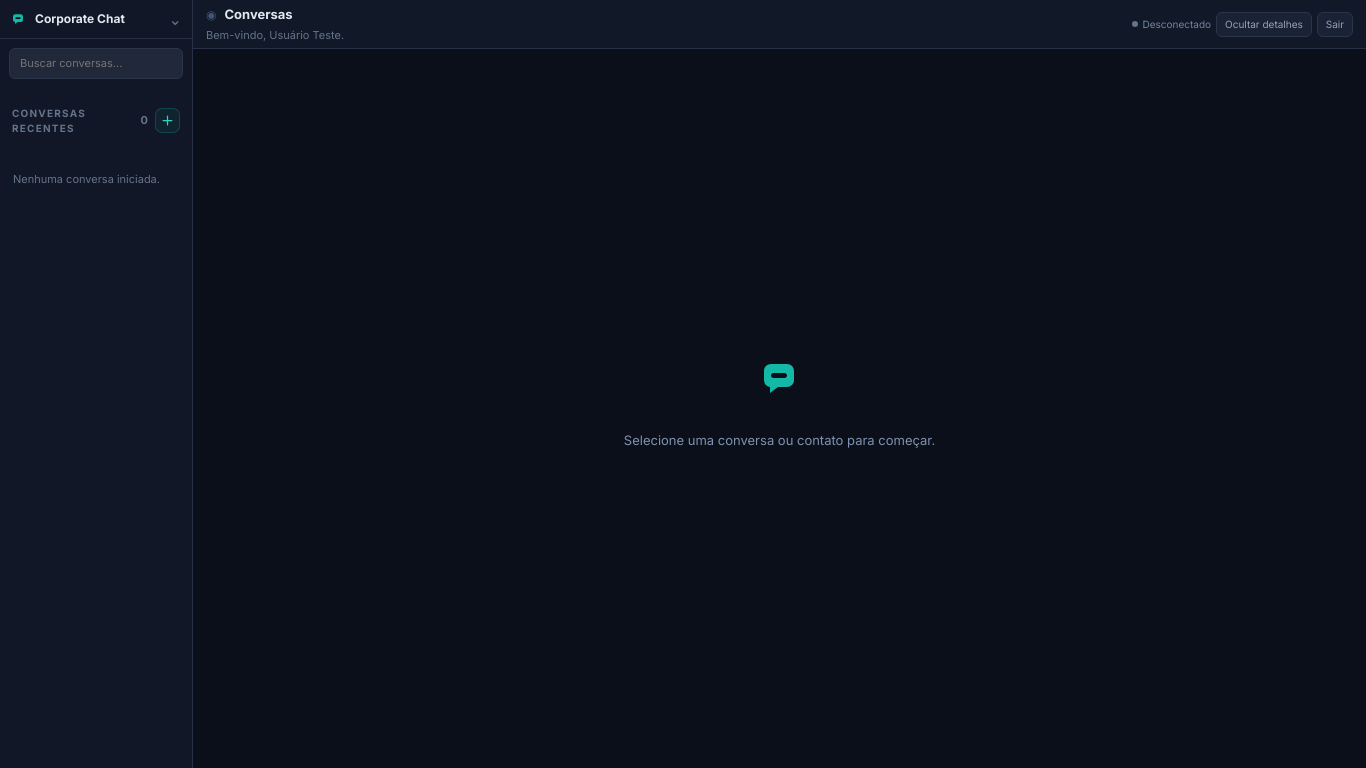
Scenario: deve criar grupo e atualizar o dashboard
The width and height of the screenshot is (1366, 768).
Click the button named "Novo grupo" at x=168, y=121, box [155,108,180,133]
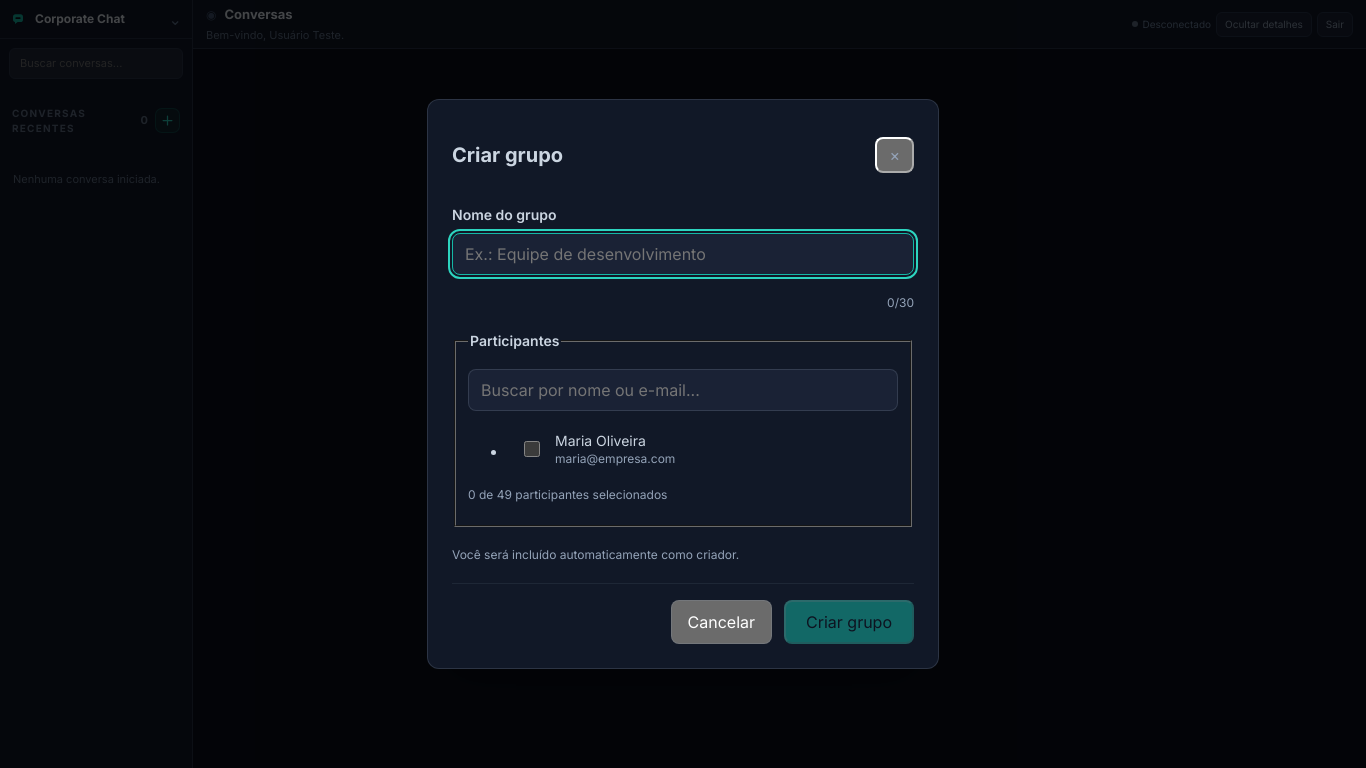
Type "Equipe" into the field labelled "Nome do grupo" at x=683, y=254, box [452,233,914,275]
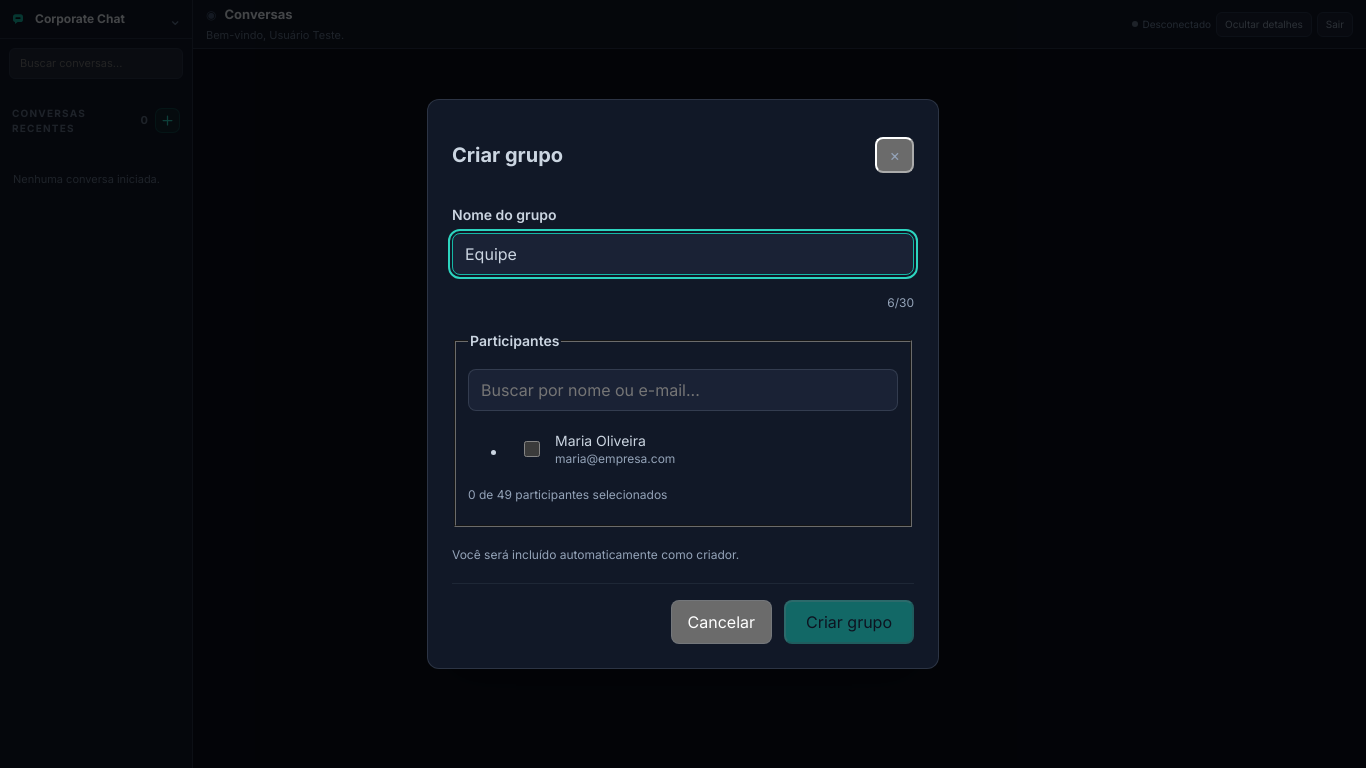
Click the checkbox named "Selecionar Maria Oliveira" at x=532, y=449, box [524,441,540,457]
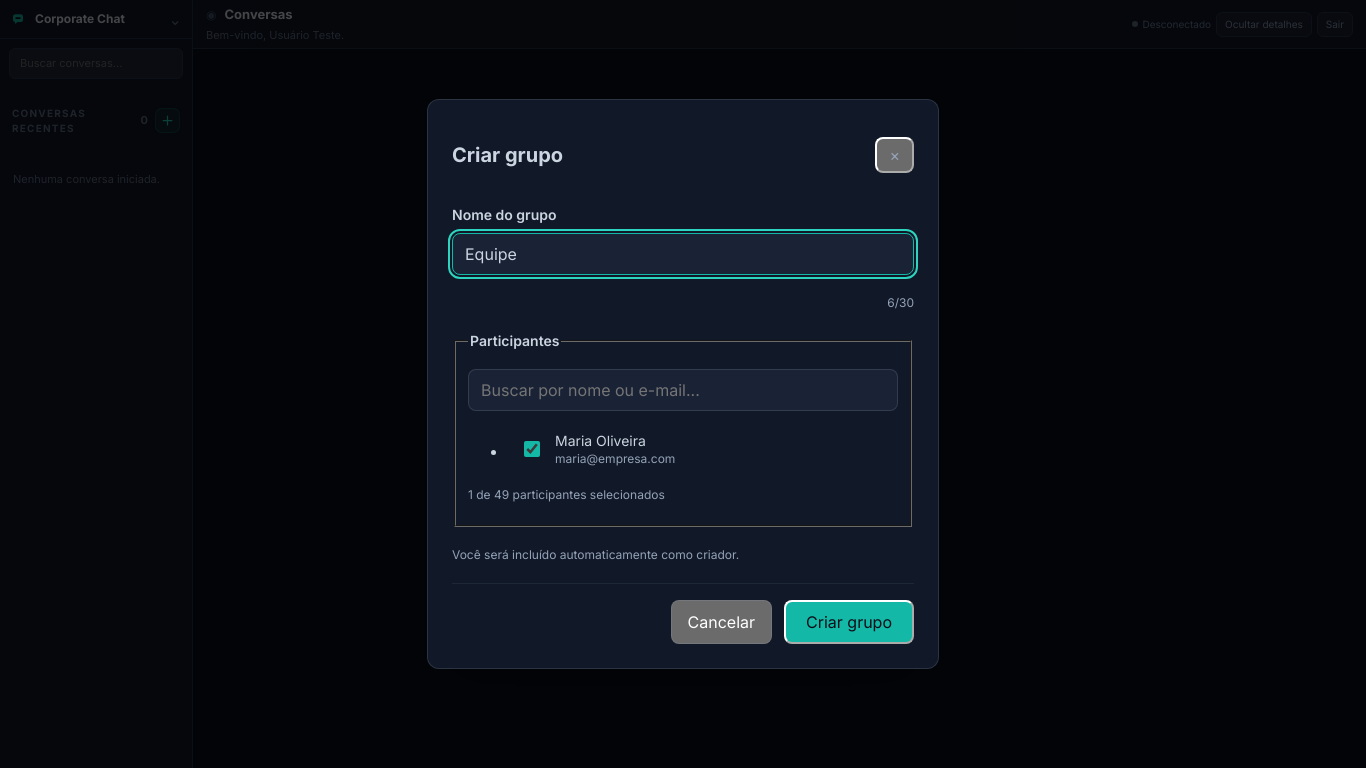
Click the button "Criar grupo" at x=849, y=622, box [784,600,914,644]
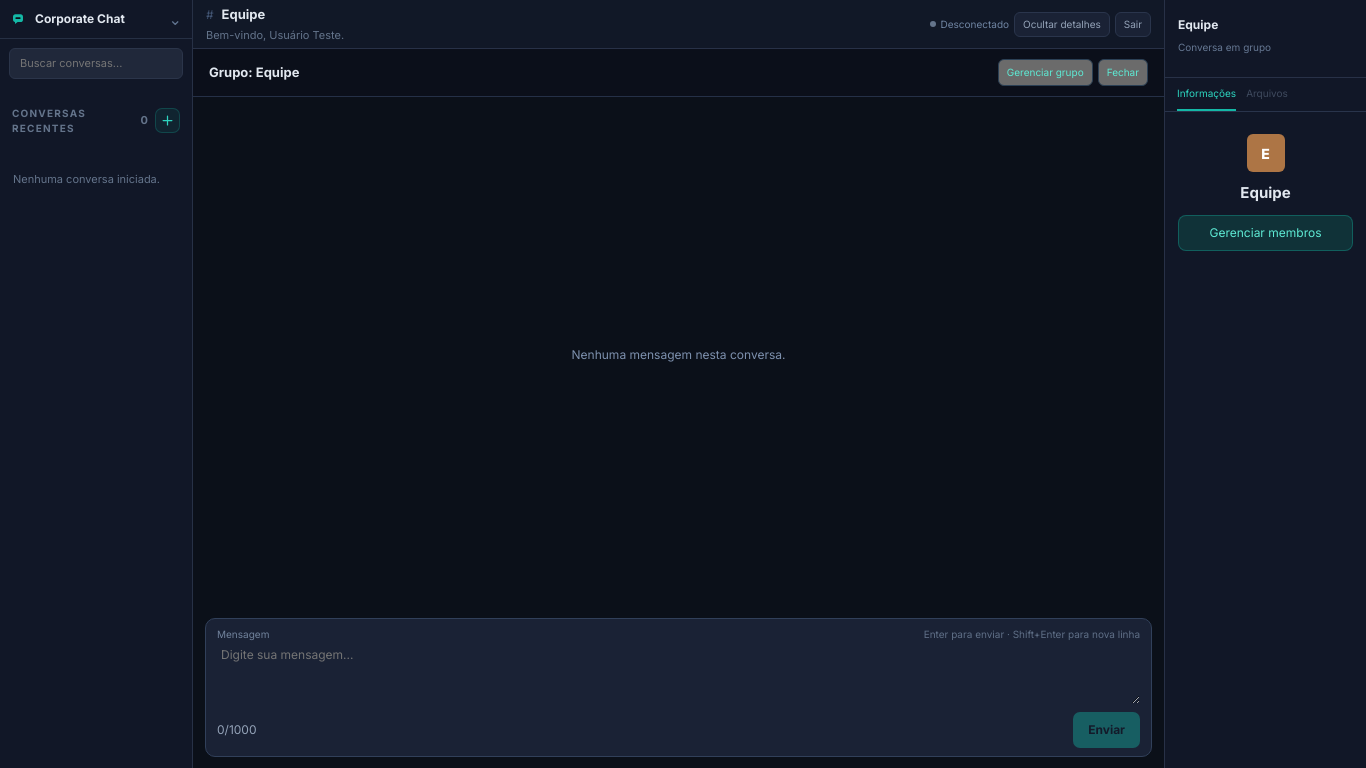
Expected: the heading "Grupo: Equipe" is shown, [209,63,299,82]
Expected: the dialog is gone
